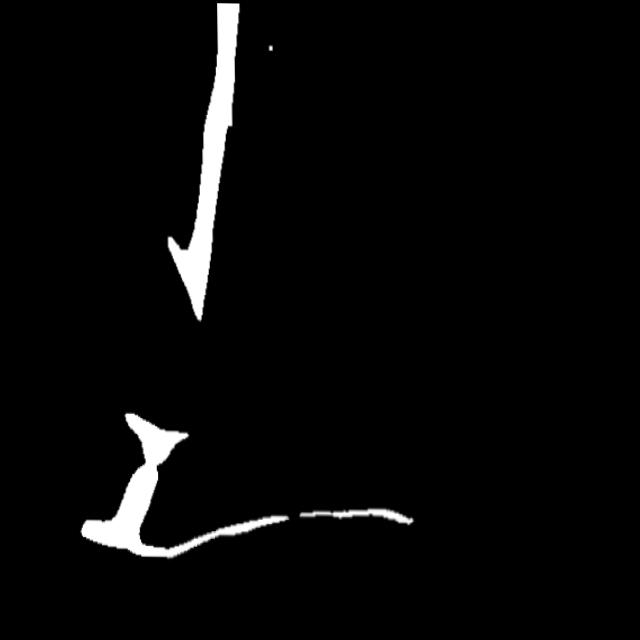sup: (279, 505, 305, 529)
